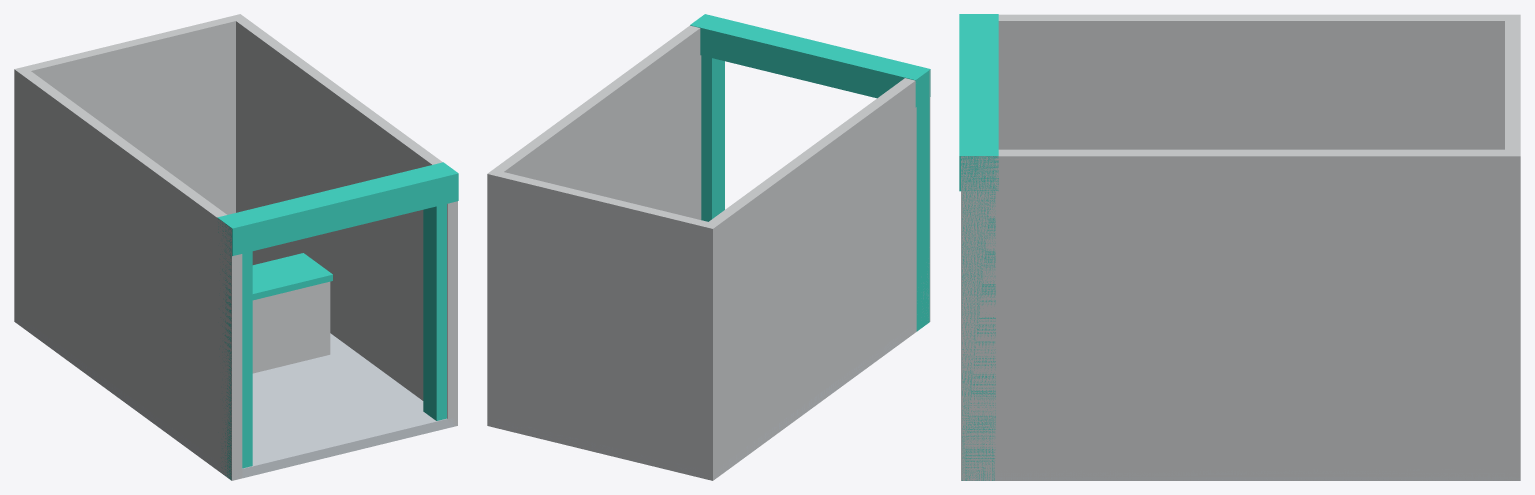
The picture shows the model from 3 angles, left to right: view 1: azimuth 30°, elevation 25°; view 2: azimuth 150°, elevation 25°; view 3: azimuth 270°, elevation 25°; orthographic projection. The views are drawn at different scales.
Parts seen in each view (by area): view 1: Exhibition Booth Concept; view 2: Exhibition Booth Concept; view 3: Exhibition Booth Concept.
Part boxes in pixels (x1,y1,x2,y2): Exhibition Booth Concept: [14, 14, 458, 480]; Exhibition Booth Concept: [487, 14, 930, 480]; Exhibition Booth Concept: [959, 14, 1520, 480].
Size of the model in its own units: 3 by 3.2 by 5.02.
